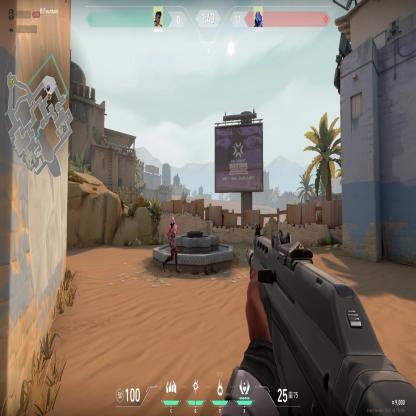enemy: (162, 214, 181, 276)
